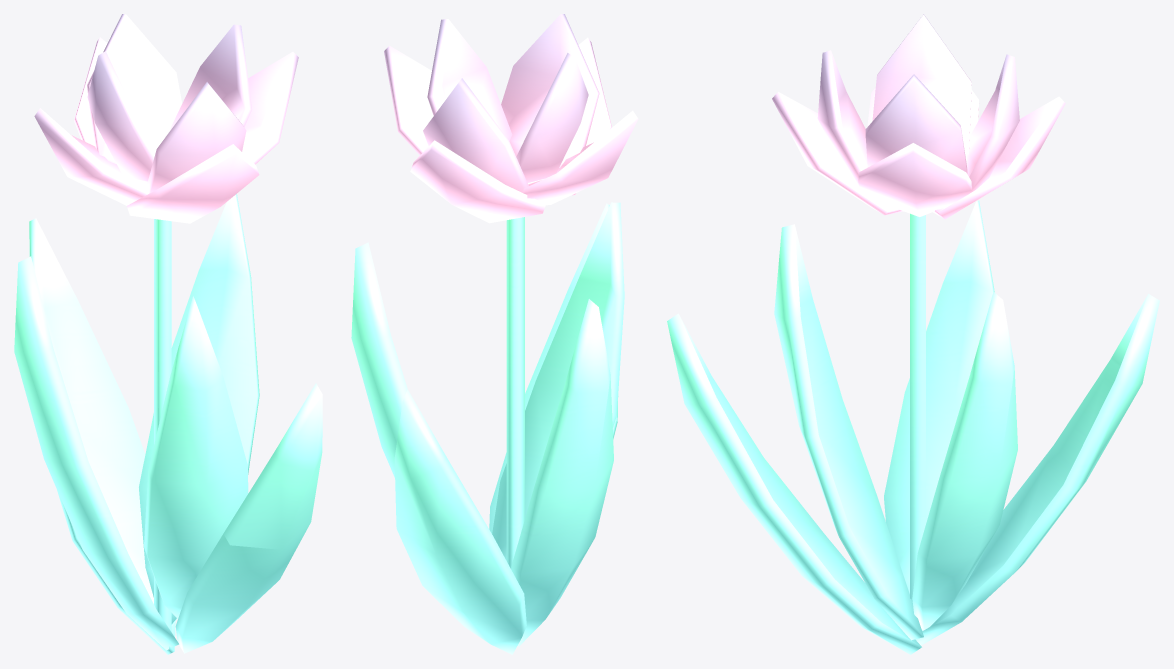
Rendered from Lillie_Purple.glb.
The picture shows the model from 3 angles, left to right: view 1: azimuth 30°, elevation 25°; view 2: azimuth 150°, elevation 25°; view 3: azimuth 270°, elevation 25°; orthographic projection. The views are drawn at different scales.
Visible parts, largest first — view 1: Liliy_Purple_Material #150_0; view 2: Liliy_Purple_Material #150_0; view 3: Liliy_Purple_Material #150_0.
Boxes of the visible parts, x1,y1,x2,y2 form: Liliy_Purple_Material #150_0: (14, 14, 322, 654); Liliy_Purple_Material #150_0: (351, 14, 638, 654); Liliy_Purple_Material #150_0: (667, 14, 1159, 654).
Bounding box in the file's own units: 0.4812 × 1.09 × 0.8069.
